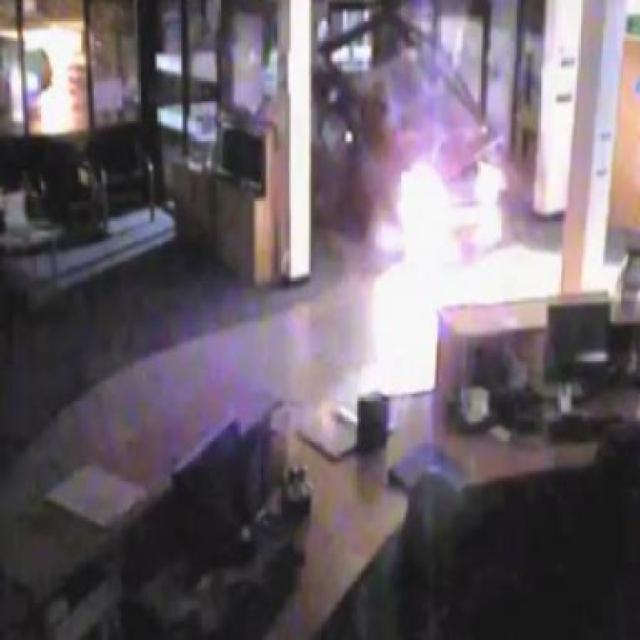Fire: (344, 156, 564, 407), (466, 159, 508, 259)
